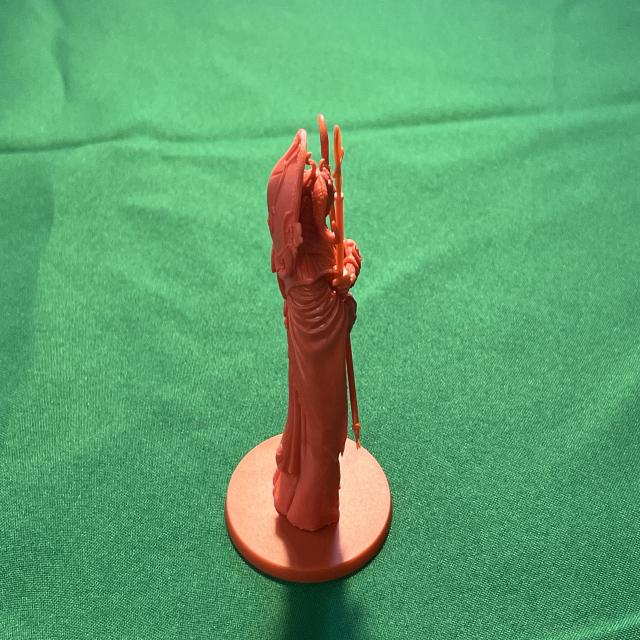amon: (222, 110, 396, 590)
